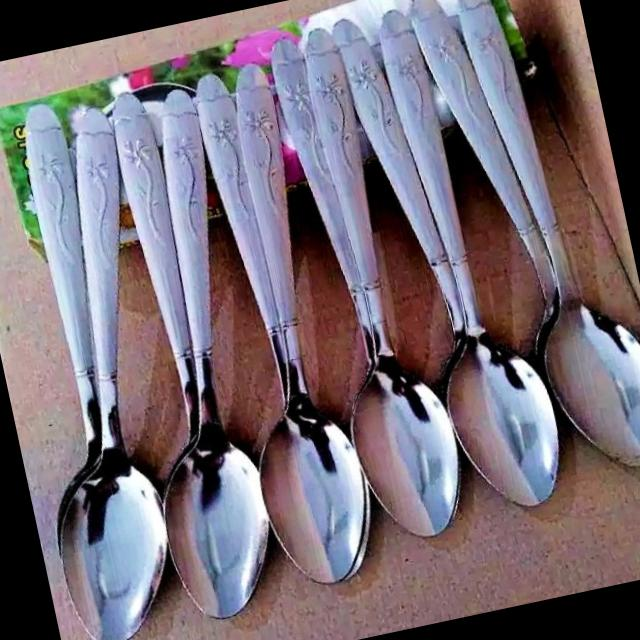spoon: (409, 0, 640, 504)
